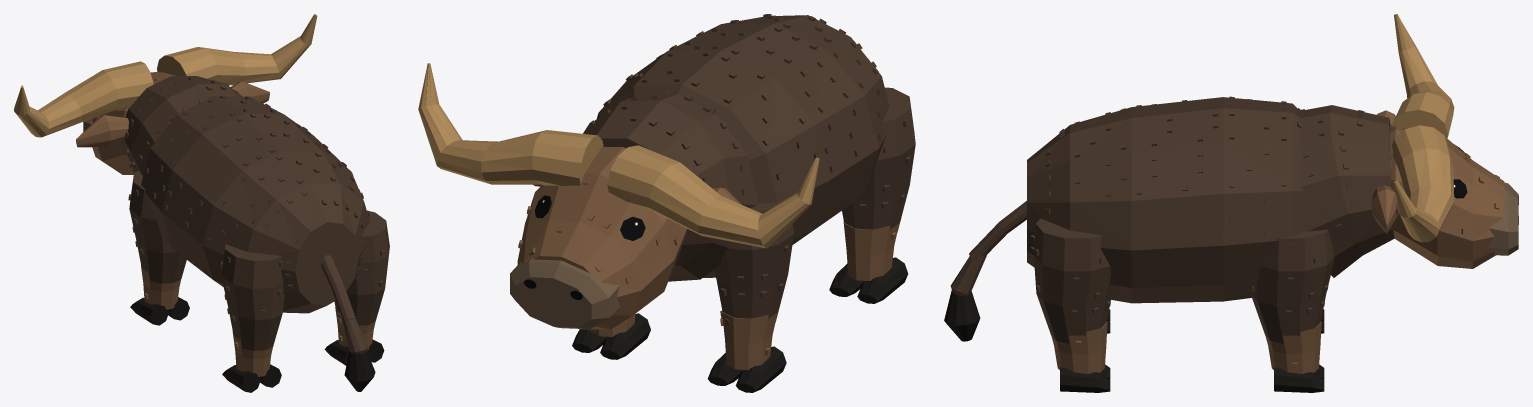
File: Buffalo.fbx
3 views of the same model, side by side, from view 1: azimuth 30°, elevation 25°; view 2: azimuth 150°, elevation 25°; view 3: azimuth 270°, elevation 25° (orthographic). The views are drawn at different scales.
Visible parts, largest first — view 1: Import3D_Core, Import3D_Head, Import3D_LegBL, Import3D_Neck, Import3D_LegBR, Import3D_LegFL, Import3D_KneeBL, Import3D_KneeFL, Import3D_Tail1, Import3D_EarL, Import3D_KneeBR, Import3D_Tail (+1 smaller); view 2: Import3D_Head, Import3D_Core, Import3D_Neck, Import3D_LegFL, Import3D_LegBL, Import3D_KneeFL, Import3D_KneeBL, Import3D_KneeFR, Import3D_EyeL; view 3: Import3D_Core, Import3D_Head, Import3D_Neck, Import3D_LegBR, Import3D_LegFR, Import3D_KneeBR, Import3D_KneeFR, Import3D_Tail1, Import3D_Tail, Import3D_EarR.
Boxes of the visible parts, bbox=[...] form: Import3D_Core: bbox=[141, 95, 369, 313]; Import3D_Head: bbox=[14, 14, 317, 174]; Import3D_LegBL: bbox=[220, 244, 284, 350]; Import3D_Neck: bbox=[123, 76, 242, 175]; Import3D_LegBR: bbox=[334, 211, 389, 325]; Import3D_LegFL: bbox=[128, 170, 186, 283]; Import3D_KneeBL: bbox=[222, 331, 281, 392]; Import3D_KneeFL: bbox=[130, 265, 189, 325]; Import3D_Tail1: bbox=[341, 315, 375, 391]; Import3D_EarL: bbox=[76, 115, 128, 147]; Import3D_KneeBR: bbox=[324, 307, 384, 365]; Import3D_Tail: bbox=[321, 255, 355, 322]; Import3D_Head: bbox=[418, 63, 819, 329]; Import3D_Core: bbox=[597, 14, 889, 277]; Import3D_Neck: bbox=[583, 94, 758, 281]; Import3D_LegFL: bbox=[714, 196, 793, 325]; Import3D_LegBL: bbox=[842, 87, 915, 232]; Import3D_KneeFL: bbox=[707, 310, 786, 392]; Import3D_KneeBL: bbox=[829, 221, 908, 303]; Import3D_KneeFR: bbox=[572, 313, 650, 359]; Import3D_EyeL: bbox=[620, 216, 645, 240]; Import3D_Core: bbox=[1027, 96, 1303, 303]; Import3D_Head: bbox=[1389, 14, 1518, 268]; Import3D_Neck: bbox=[1297, 105, 1394, 277]; Import3D_LegBR: bbox=[1033, 218, 1112, 343]; Import3D_LegFR: bbox=[1250, 229, 1334, 343]; Import3D_KneeBR: bbox=[1051, 321, 1110, 392]; Import3D_KneeFR: bbox=[1265, 322, 1324, 392]; Import3D_Tail1: bbox=[944, 254, 986, 341]; Import3D_Tail: bbox=[969, 201, 1026, 260]; Import3D_EarR: bbox=[1372, 185, 1399, 233].
Bounding box in the file's own units: 304 × 219 × 440.
Materials: 1 (1 with a texture image).
